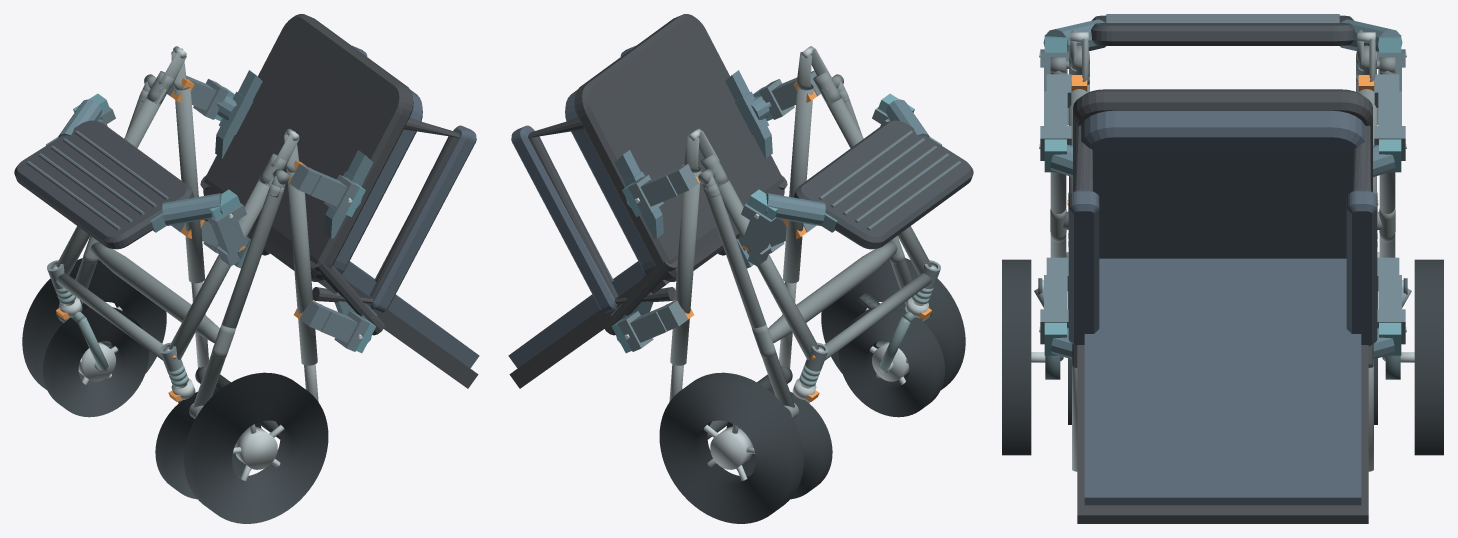
Rendered from S08_w550_state3_wheel_M.glb.
The picture shows the model from 3 angles, left to right: view 1: azimuth 30°, elevation 25°; view 2: azimuth 150°, elevation 25°; view 3: azimuth 270°, elevation 25°; orthographic projection. The views are drawn at different scales.
Visible parts, largest first — view 1: S08_Cabin, RL_tire.002, S08_Cabin_Footrest, FR_tire.002, RR_tire.002, V46_rear_leg_-1.003, S08_Cabin_Footrest_LowDocks, main_upper_-1.003, FL_tire.002, V46_rearbar.003, main_upper_1.003, main_lower_-1.003 (+11 smaller); view 2: S08_Cabin, RR_tire.002, S08_Cabin_Footrest, FL_tire.002, RL_tire.002, V46_rear_leg_1.003, S08_Cabin_Footrest_LowDocks, main_upper_1.003, FR_tire.002, V46_rearbar.003, main_upper_-1.003, main_lower_1.003 (+11 smaller); view 3: S08_Cabin, S08_Cabin_Footrest, RL_tire.002, RR_tire.002, S08_Cabin_Footrest_LowDocks, S08_Cabin_Mount_M, Universal_Cabin_Receiver_M_-1, Universal_Cabin_Receiver_M_1, S08_Cabin_HighDocks, Universal_Cabin_Receiver_H_1, Universal_Cabin_Receiver_H_-1, V46_rear_leg_1.003 (+3 smaller).
Part boxes in pixels (<box>): S08_Cabin: <box>200,14,479,388</box>; RL_tire.002: <box>184,372,328,523</box>; S08_Cabin_Footrest: <box>14,120,194,249</box>; FR_tire.002: <box>43,307,149,417</box>; RR_tire.002: <box>22,258,166,389</box>; V46_rear_leg_-1.003: <box>193,184,284,407</box>; S08_Cabin_Footrest_LowDocks: <box>46,93,240,232</box>; main_upper_-1.003: <box>286,169,317,365</box>; FL_tire.002: <box>155,388,261,499</box>; V46_rearbar.003: <box>90,242,219,343</box>; main_upper_1.003: <box>174,88,204,283</box>; main_lower_-1.003: <box>169,178,273,359</box>; S08_Cabin: <box>508,14,787,388</box>; RR_tire.002: <box>659,372,803,523</box>; S08_Cabin_Footrest: <box>793,120,973,249</box>; FL_tire.002: <box>838,307,944,417</box>; RL_tire.002: <box>821,258,965,389</box>; V46_rear_leg_1.003: <box>703,184,794,407</box>; S08_Cabin_Footrest_LowDocks: <box>747,93,941,232</box>; main_upper_1.003: <box>670,169,701,365</box>; FR_tire.002: <box>726,388,832,499</box>; V46_rearbar.003: <box>768,242,897,343</box>; main_upper_-1.003: <box>783,88,813,283</box>; main_lower_1.003: <box>714,178,818,359</box>; S08_Cabin: <box>1068,89,1377,523</box>; S08_Cabin_Footrest: <box>1091,14,1354,45</box>; RL_tire.002: <box>1002,259,1031,455</box>; RR_tire.002: <box>1414,259,1443,455</box>; S08_Cabin_Footrest_LowDocks: <box>1039,19,1406,57</box>; S08_Cabin_Mount_M: <box>1039,139,1406,177</box>; Universal_Cabin_Receiver_M_-1: <box>1040,74,1071,160</box>; Universal_Cabin_Receiver_M_1: <box>1374,74,1405,160</box>; S08_Cabin_HighDocks: <box>1039,322,1406,367</box>; Universal_Cabin_Receiver_H_1: <box>1377,257,1405,344</box>; Universal_Cabin_Receiver_H_-1: <box>1040,257,1068,344</box>; V46_rear_leg_1.003: <box>1379,172,1395,257</box>.
Size of the model in its own units: 0.8244 by 0.788 by 0.6771.
